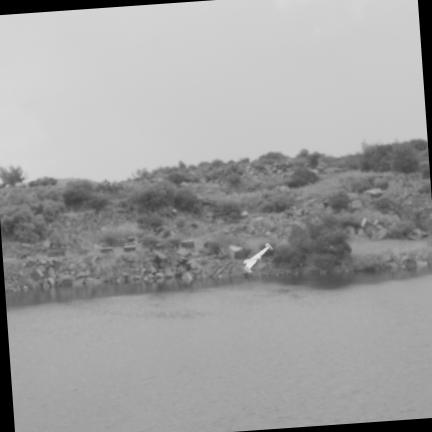Shahed: (243, 243, 272, 272)
